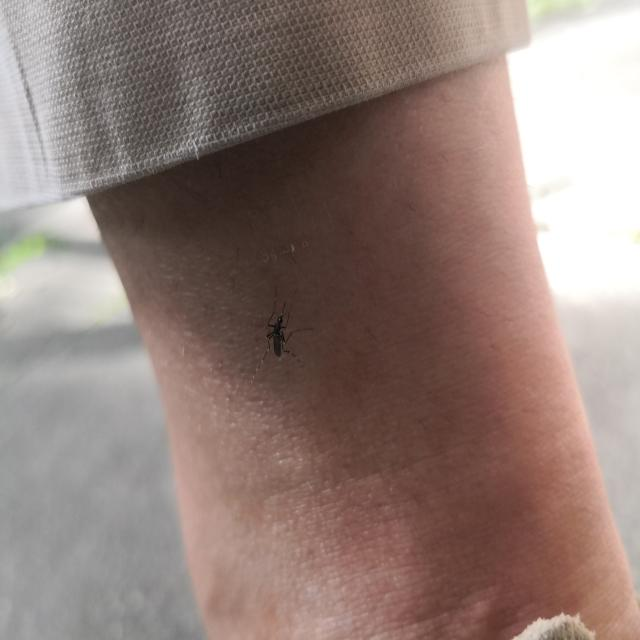albopictus: (253, 281, 308, 368)
